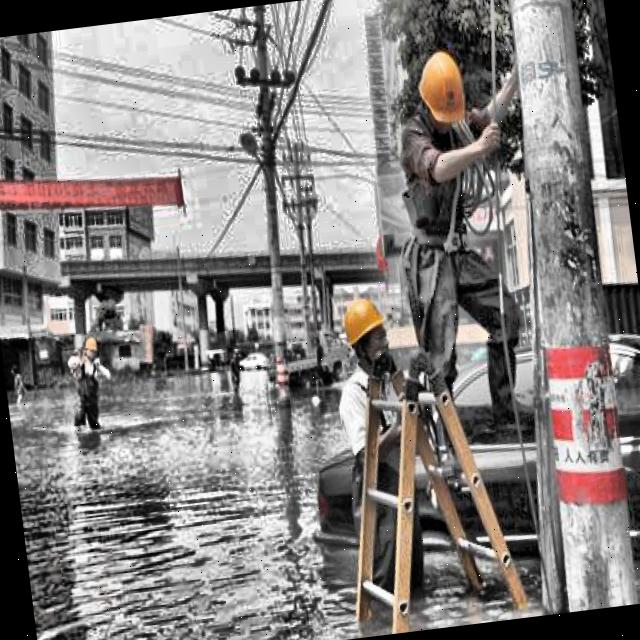helmet: (412, 44, 472, 134), (337, 290, 396, 377), (78, 331, 102, 362)
